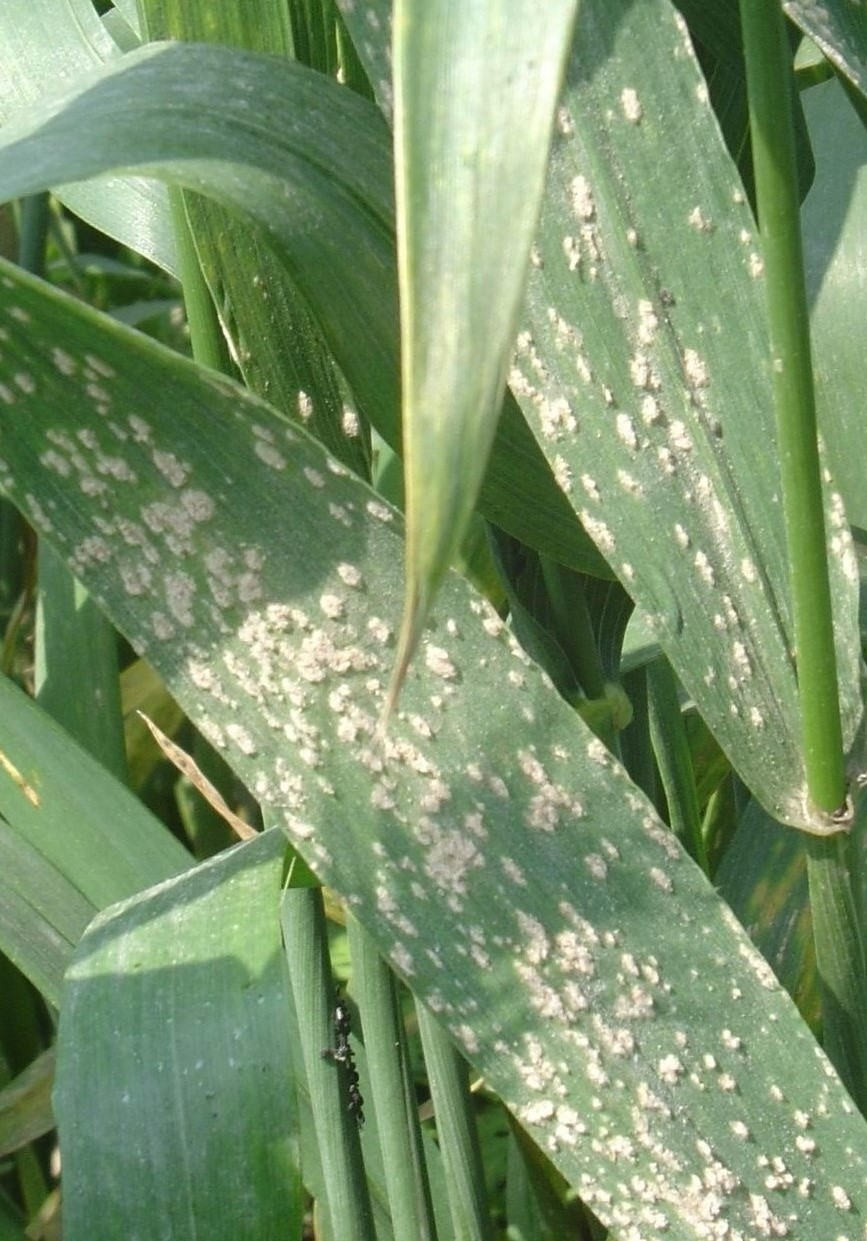Powdery Mildew: (90, 479, 775, 1214)
